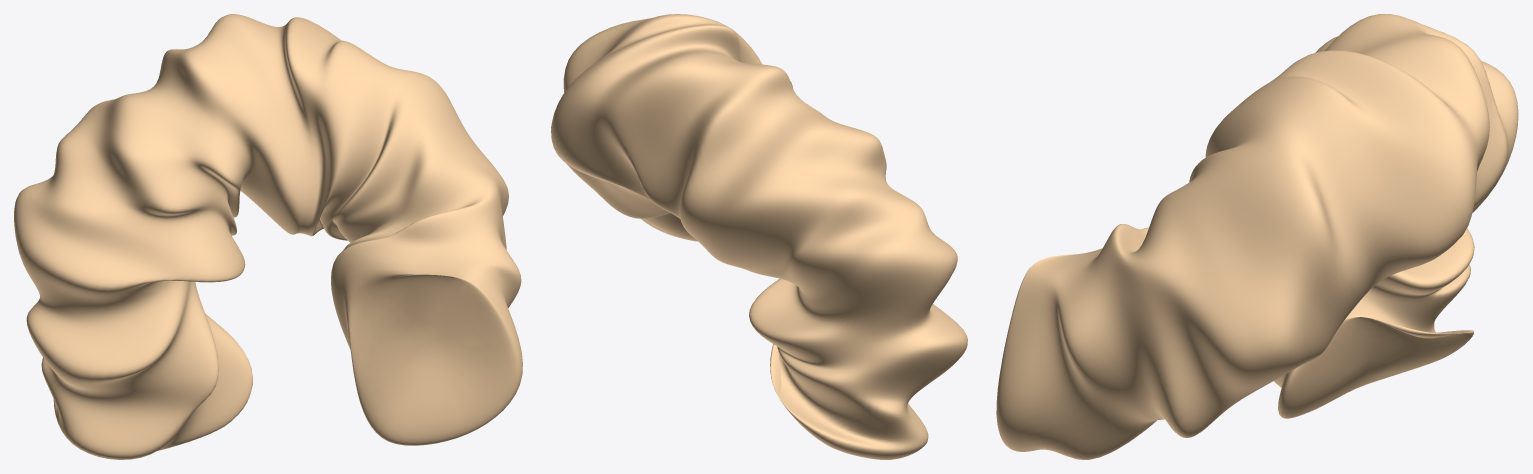
File: form_8.glb
3 renders of one model, left to right at view 1: azimuth 30°, elevation 25°; view 2: azimuth 150°, elevation 25°; view 3: azimuth 270°, elevation 25°, orthographic. The views are drawn at different scales.
Parts seen in each view (by area): view 1: Cube; view 2: Cube; view 3: Cube.
Part boxes in pixels (<box>): Cube: <box>14,14,522,459</box>; Cube: <box>551,14,967,459</box>; Cube: <box>996,14,1518,459</box>.
Size of the model in its own units: 17.92 by 14.76 by 15.64.
